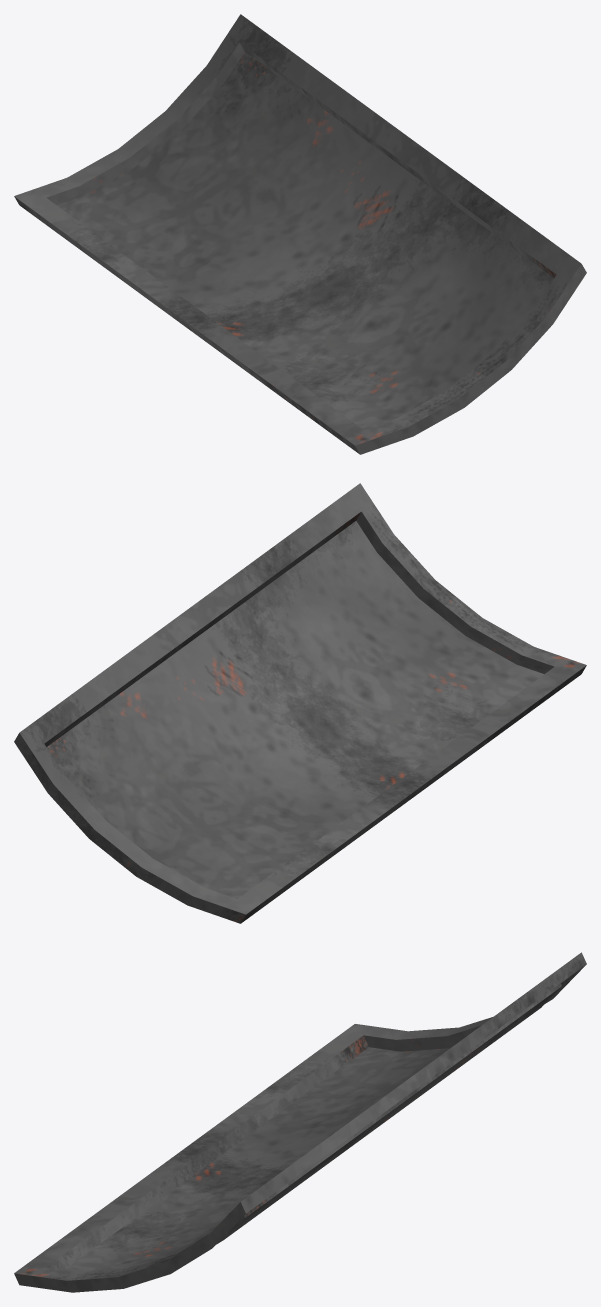
Rendered from door_left.fbx.
3 renders of one model, top to bottom at view 1: azimuth 30°, elevation 25°; view 2: azimuth 150°, elevation 25°; view 3: azimuth 330°, elevation 25°, orthographic.
Visible parts, largest first — view 1: door left; view 2: door left; view 3: door left.
Boxes of the visible parts, x1,y1,x2,y2 form: door left: (14, 14, 586, 454); door left: (14, 483, 586, 923); door left: (14, 952, 586, 1292).
Size of the model in its own units: 274 by 155 by 698.
Materials: 1 (1 with a texture image).
